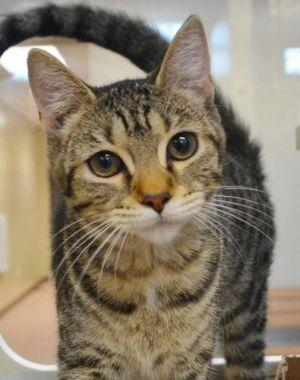bengal: (17, 8, 244, 260)
